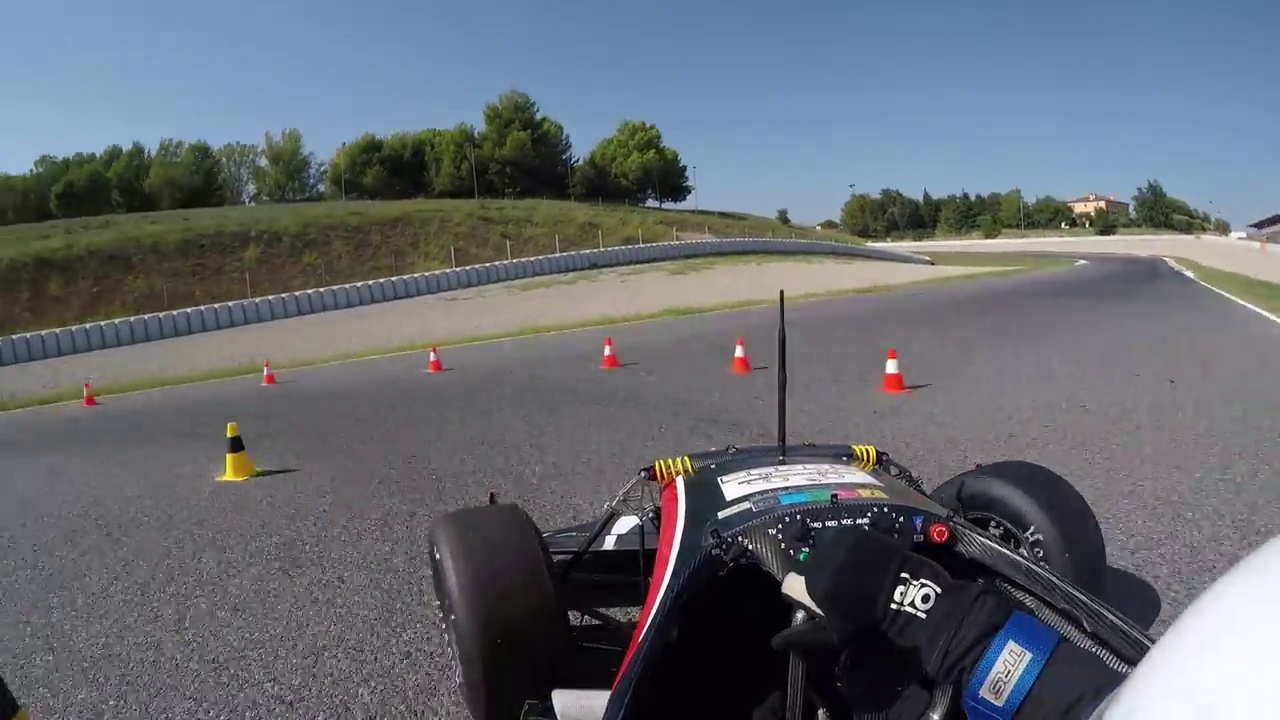Cone: (220, 421, 257, 486), (876, 348, 911, 395), (726, 335, 752, 375)
